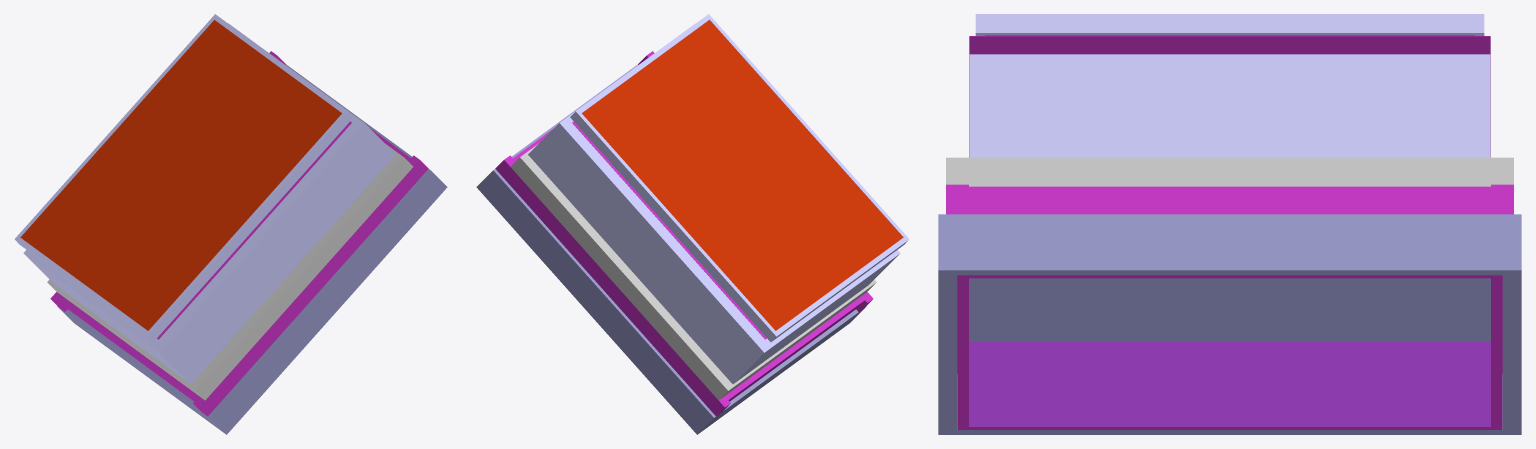
The model's file is g7_phos.glb.
3 renders of one model, left to right at view 1: azimuth 30°, elevation 25°; view 2: azimuth 150°, elevation 25°; view 3: azimuth 270°, elevation 25°, orthographic. The views are drawn at different scales.
Visible parts, largest first — view 1: PCP1_1.007; view 2: PCP1_1.007; view 3: PCP1_1.007.
Boxes of the visible parts, x1,y1,x2,y2 form: PCP1_1.007: (14, 14, 447, 434); PCP1_1.007: (476, 14, 909, 434); PCP1_1.007: (938, 14, 1521, 434).
Size of the model in its own units: 166 by 155 by 151.
